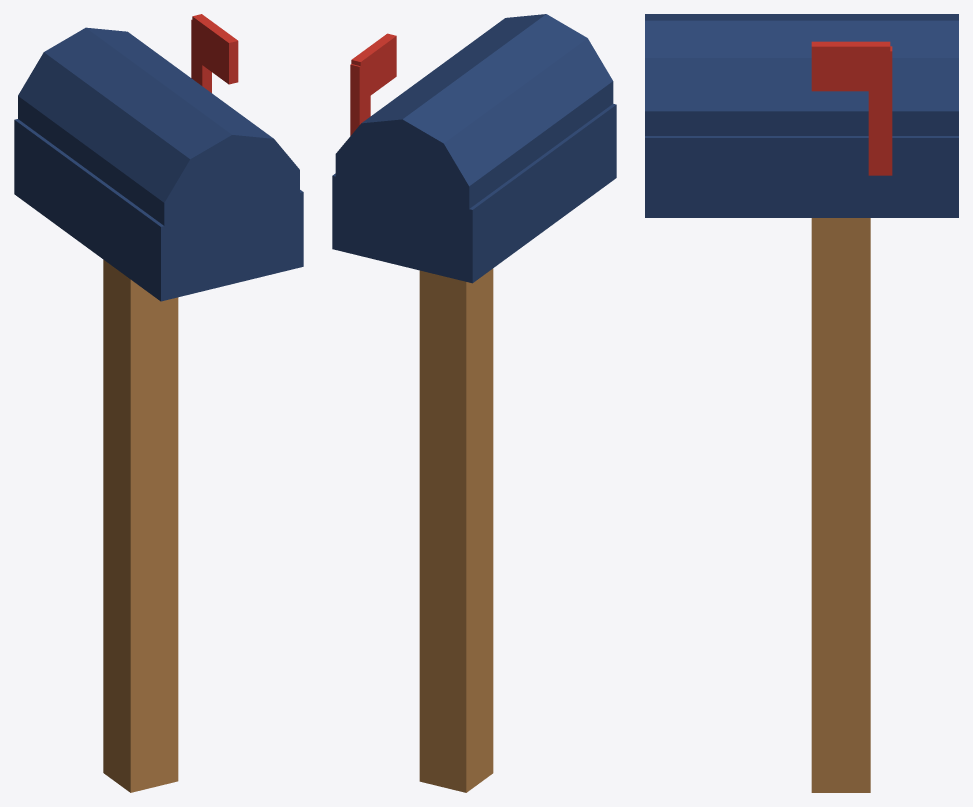
Rendered from PRP_Mailbox.fbx.
3 views of the same model, side by side, from view 1: azimuth 30°, elevation 25°; view 2: azimuth 150°, elevation 25°; view 3: azimuth 270°, elevation 25° (orthographic). The views are drawn at different scales.
Parts seen in each view (by area): view 1: PRP_Mailbox; view 2: PRP_Mailbox; view 3: PRP_Mailbox.
Part boxes in pixels (box(x1,y1,x2,y2)): PRP_Mailbox: box(14, 14, 303, 792); PRP_Mailbox: box(332, 14, 616, 792); PRP_Mailbox: box(645, 14, 958, 792).
Bounding box in the file's own units: 0.98 × 4.38 × 1.6.
